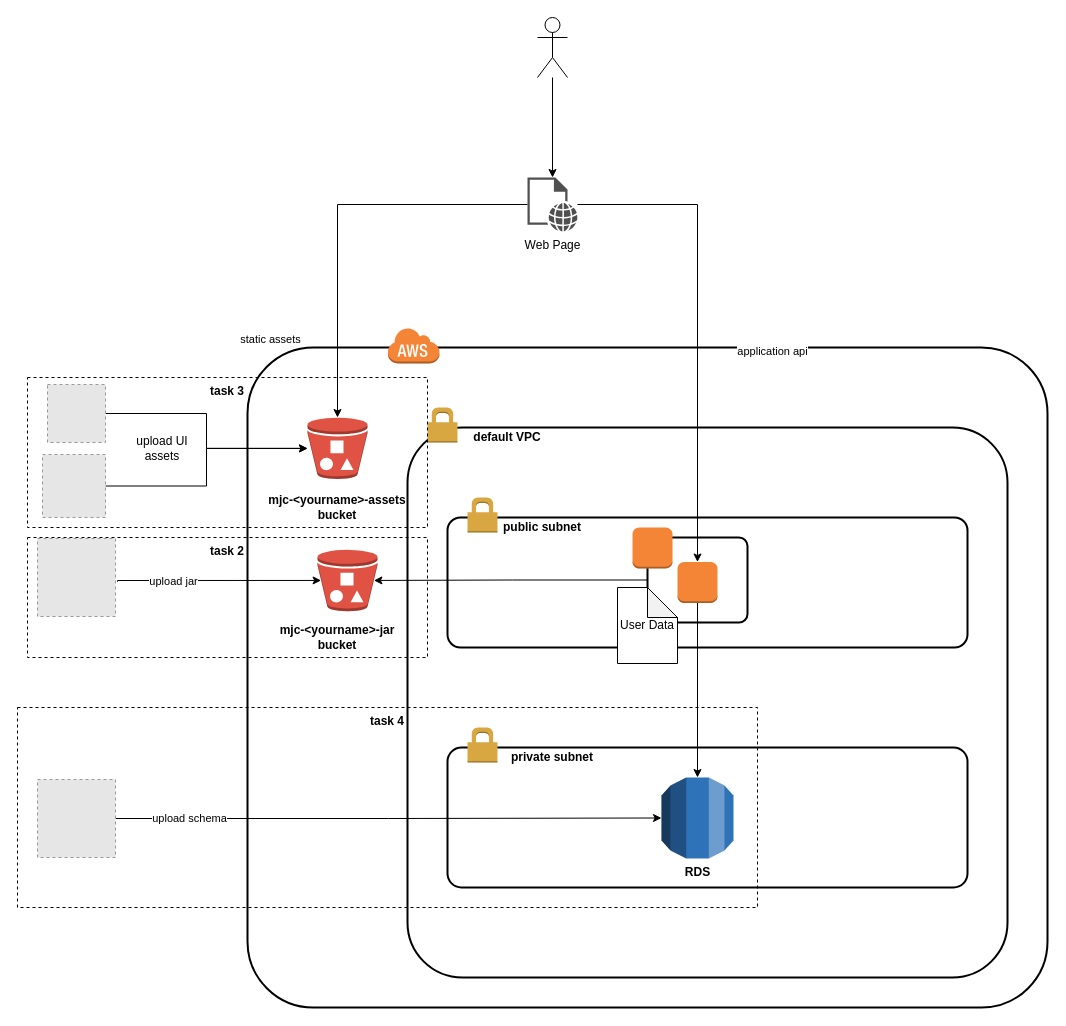
Some shapes in this 1066 by 1026 pixel diagram are drawn without their labels. Grey dashed boxes stand in for pictures. The centre of each missing label's shape, as x and y in pixels:
App: [697,582]
EC2: [652,547]
User: [552,47]
